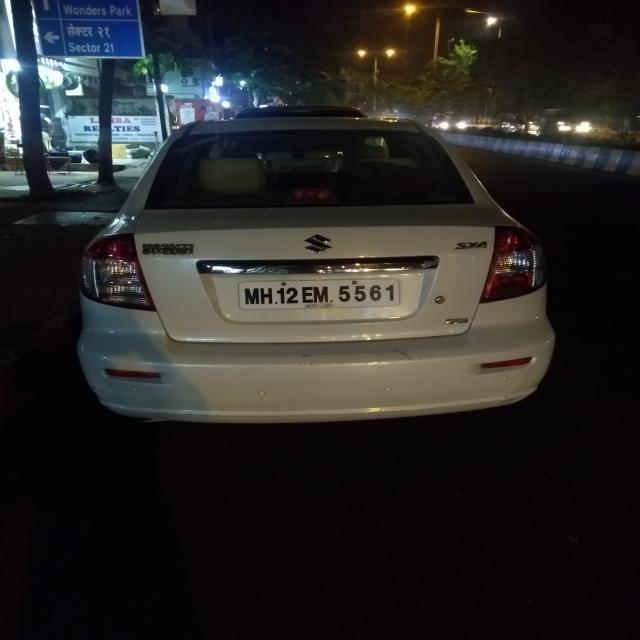Number-Plate: (240, 275, 402, 310)
